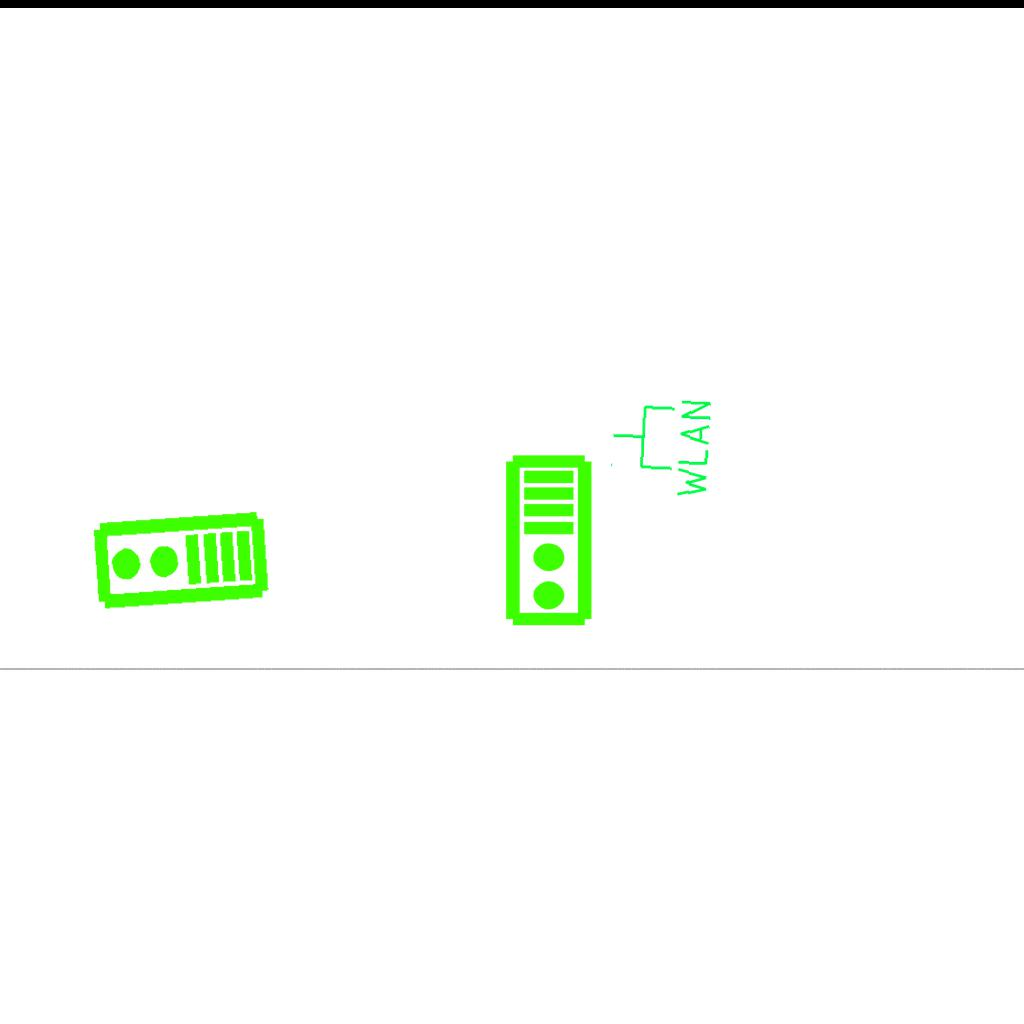Gegensprechanlage_mit_Video: (89, 508, 272, 616), (503, 453, 598, 629)
WLAN: (606, 392, 716, 503)
